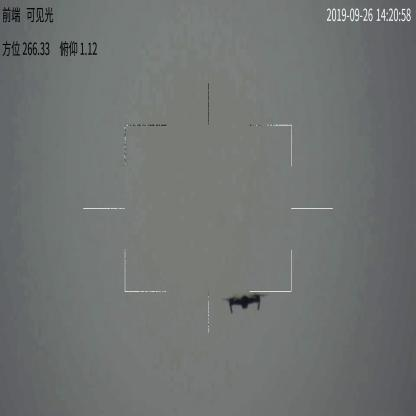uav: (220, 288, 267, 314)
